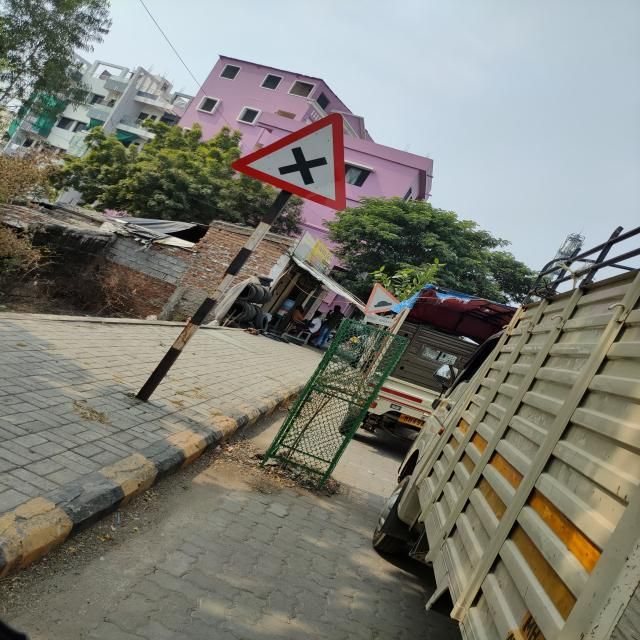cross_road: (228, 110, 356, 217)
